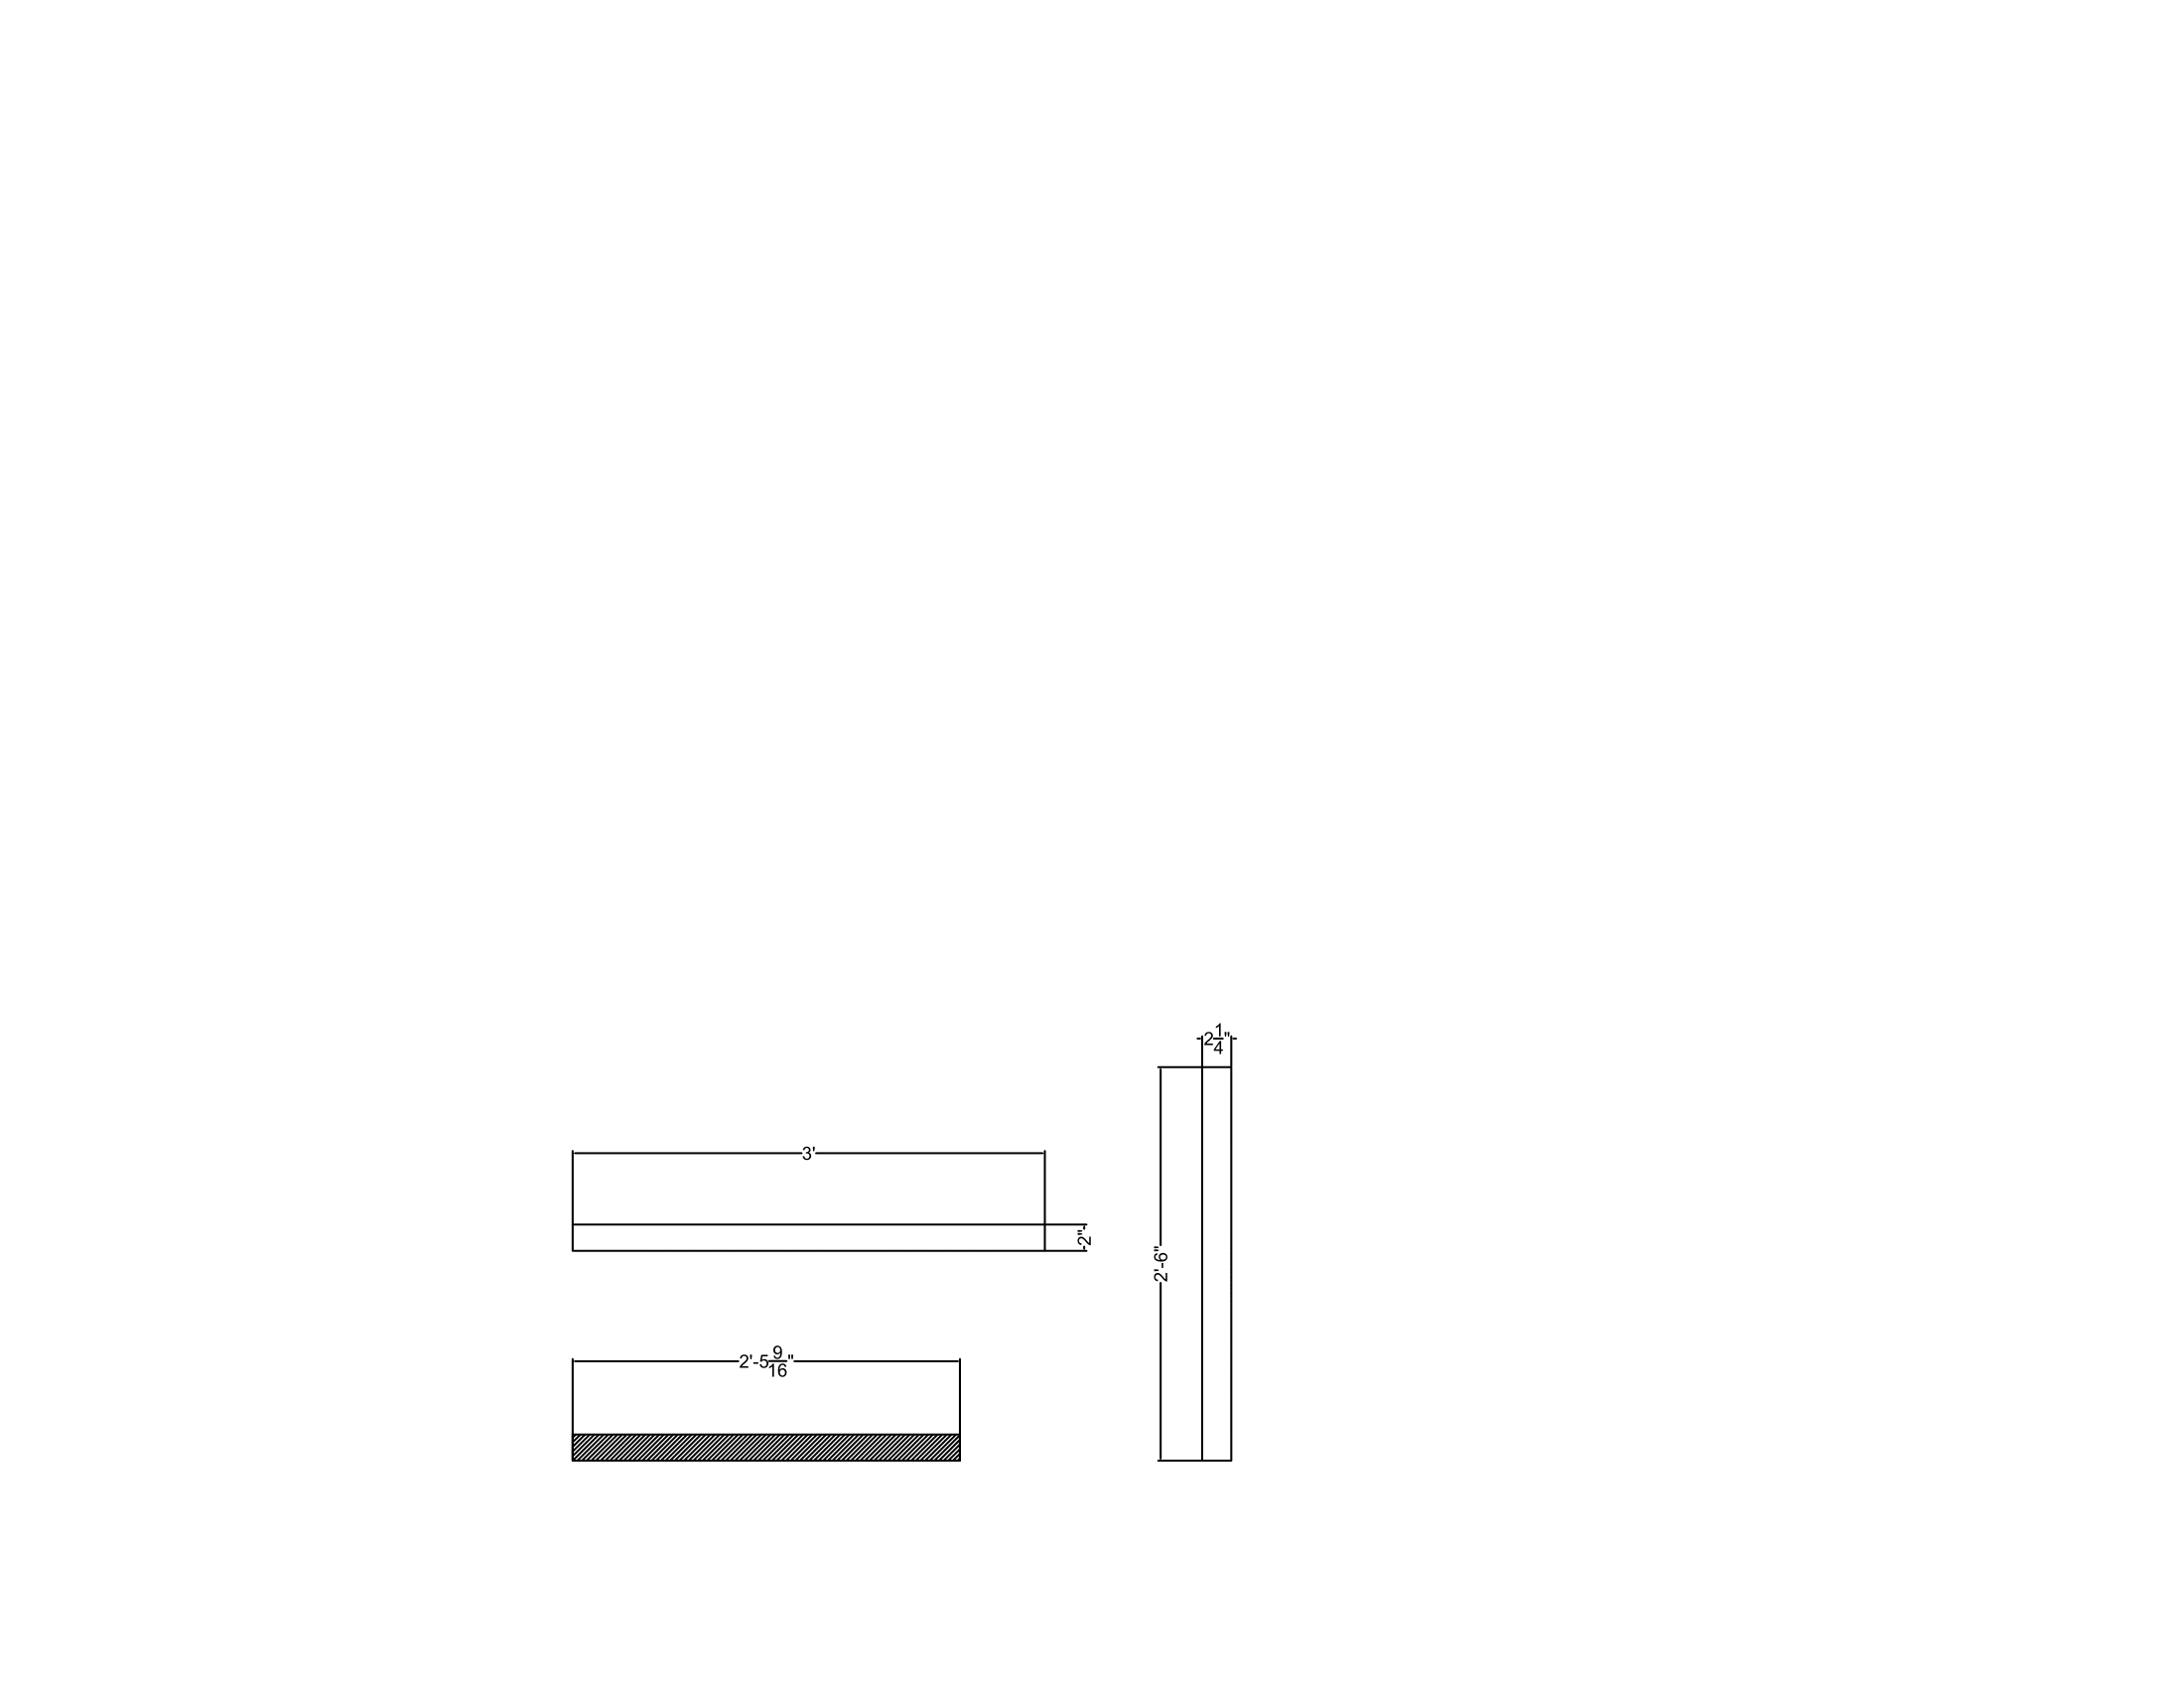measurement_marker: (562, 1337, 971, 1381), (558, 1138, 1058, 1170), (1149, 1057, 1172, 1472), (1193, 1016, 1243, 1053), (1071, 1215, 1099, 1261)
wall_no_texture: (564, 1213, 1057, 1262), (1191, 1057, 1244, 1468)
wall_stripes_texture: (567, 1427, 968, 1468)
